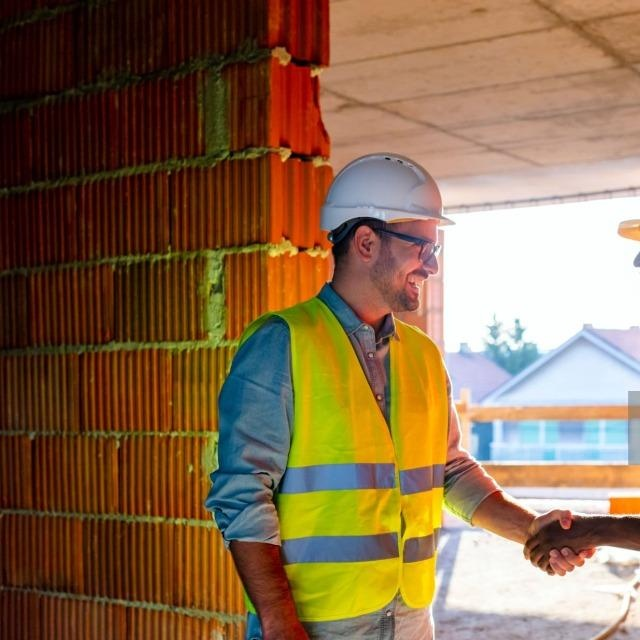Con_Casco: (317, 153, 454, 317)
Con_Chaleco: (238, 311, 446, 615)
